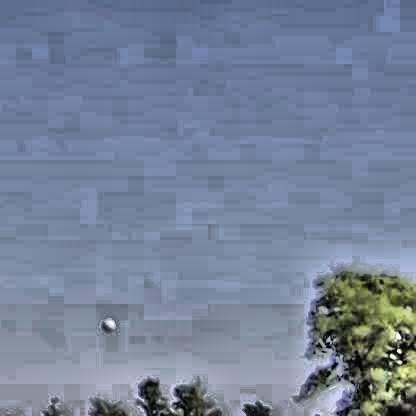golfball: (99, 314, 114, 329)
